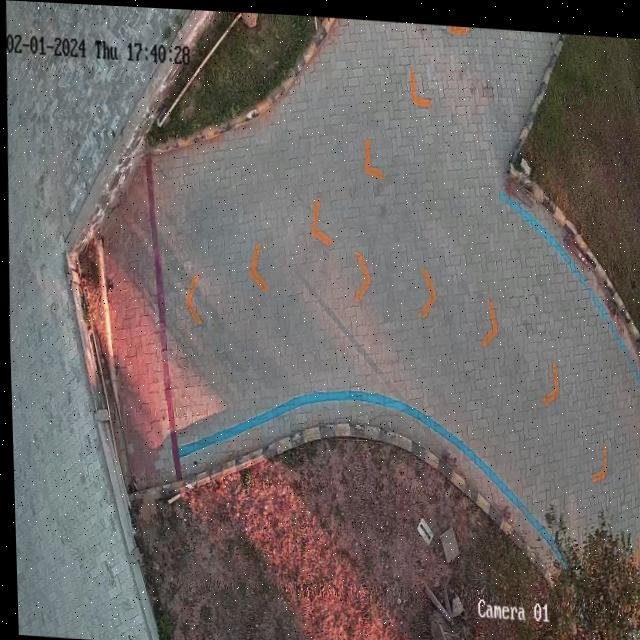No Car: (6, 0, 640, 640)
